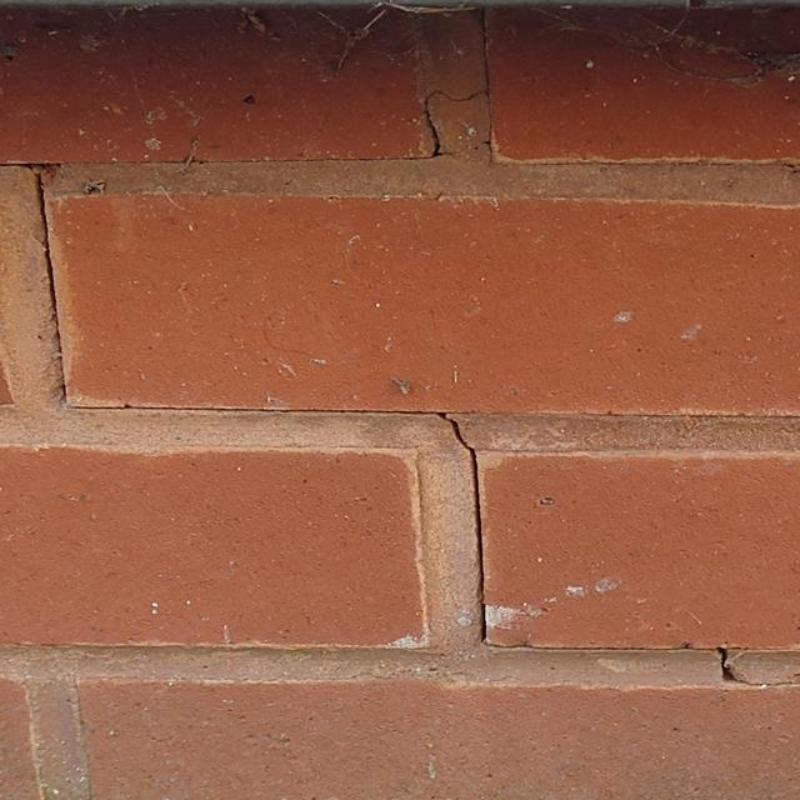crack: (0, 163, 440, 415), (438, 414, 486, 643), (420, 85, 489, 158), (482, 643, 720, 652), (720, 648, 739, 683), (741, 680, 799, 686)
